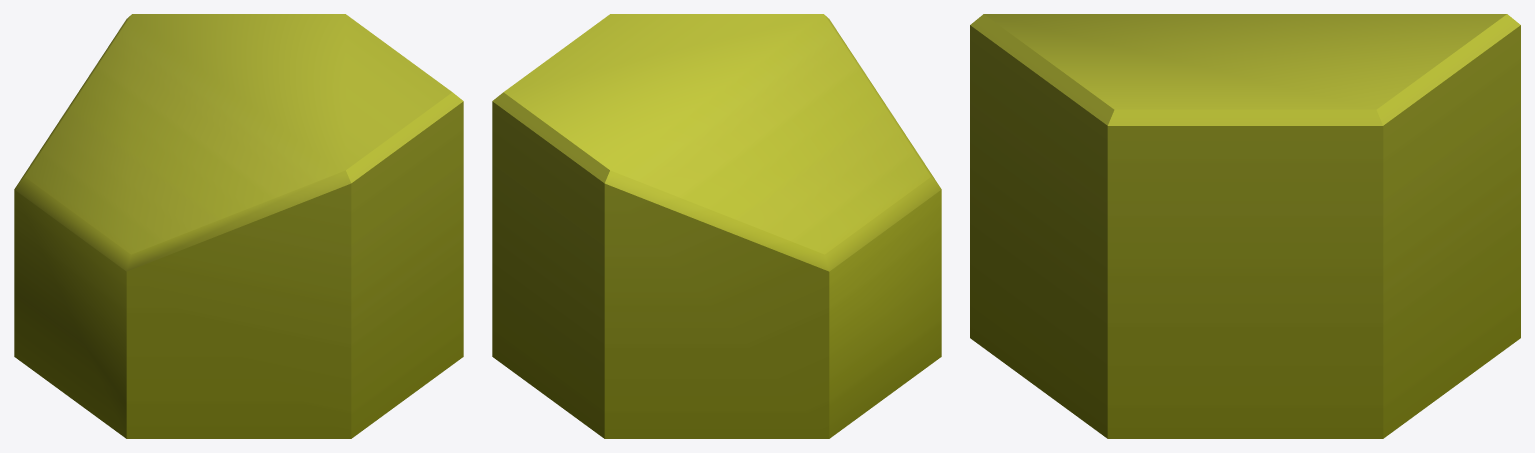
Rendered from kaykit-medieval-hexagon-pack-hex-grass-sloped-low.glb.
3 views of the same model, side by side, from view 1: azimuth 30°, elevation 25°; view 2: azimuth 150°, elevation 25°; view 3: azimuth 270°, elevation 25° (orthographic). The views are drawn at different scales.
Parts seen in each view (by area): view 1: hex_grass_sloped_low; view 2: hex_grass_sloped_low; view 3: hex_grass_sloped_low.
Boxes of the visible parts, x1,y1,x2,y2 form: hex_grass_sloped_low: [14, 14, 463, 438]; hex_grass_sloped_low: [492, 14, 941, 438]; hex_grass_sloped_low: [970, 14, 1520, 438].
Bounding box in the file's own units: 2 × 1.5 × 2.31.
Materials: 1 (1 with a texture image).
